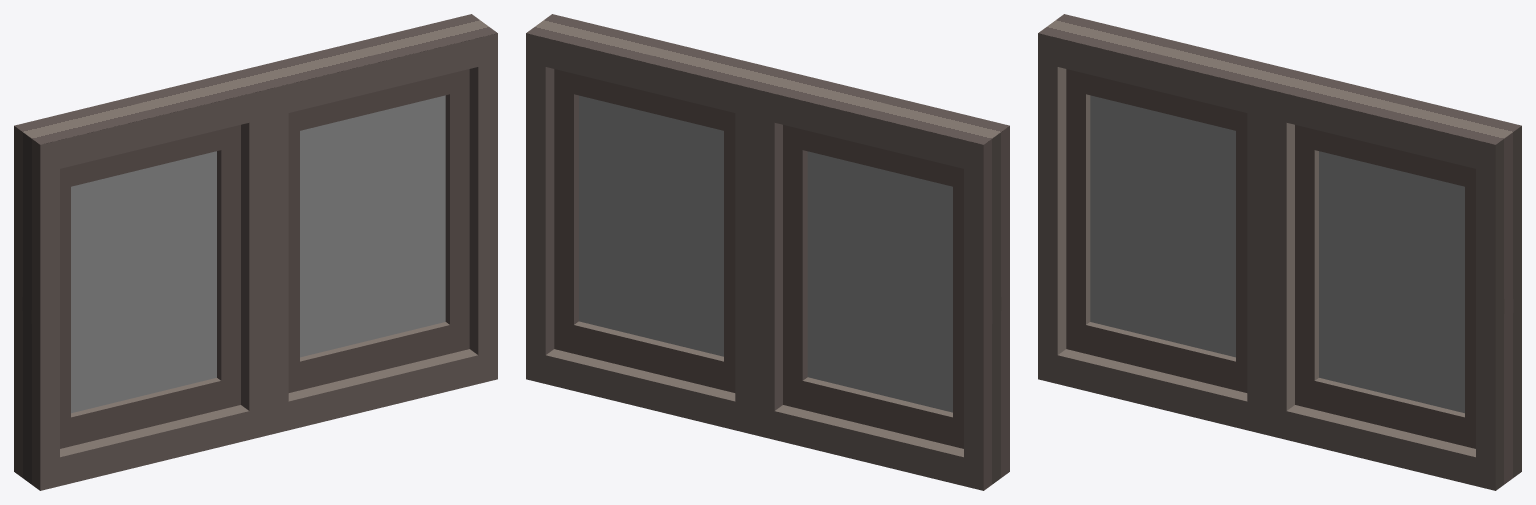
The model's file is window_438x00.obj.
3 views of the same model, side by side, from view 1: azimuth 30°, elevation 25°; view 2: azimuth 150°, elevation 25°; view 3: azimuth 330°, elevation 25° (orthographic).
Visible parts, largest first — view 1: Frame.001; view 2: Frame.001; view 3: Frame.001.
Part boxes in pixels (bbox=[...]): Frame.001: bbox=[14, 14, 497, 490]; Frame.001: bbox=[526, 14, 1009, 490]; Frame.001: bbox=[1038, 14, 1521, 490].
Size of the model in its own units: 3.88 by 2.8 by 0.385.
